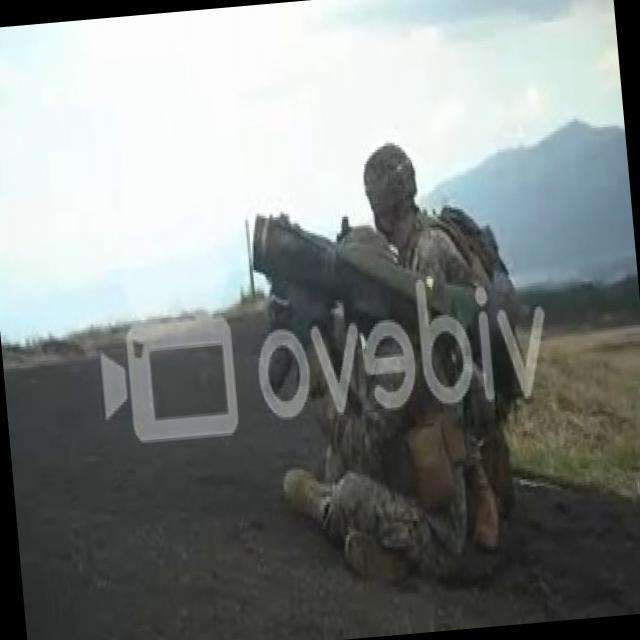rocket: (245, 192, 522, 404)
